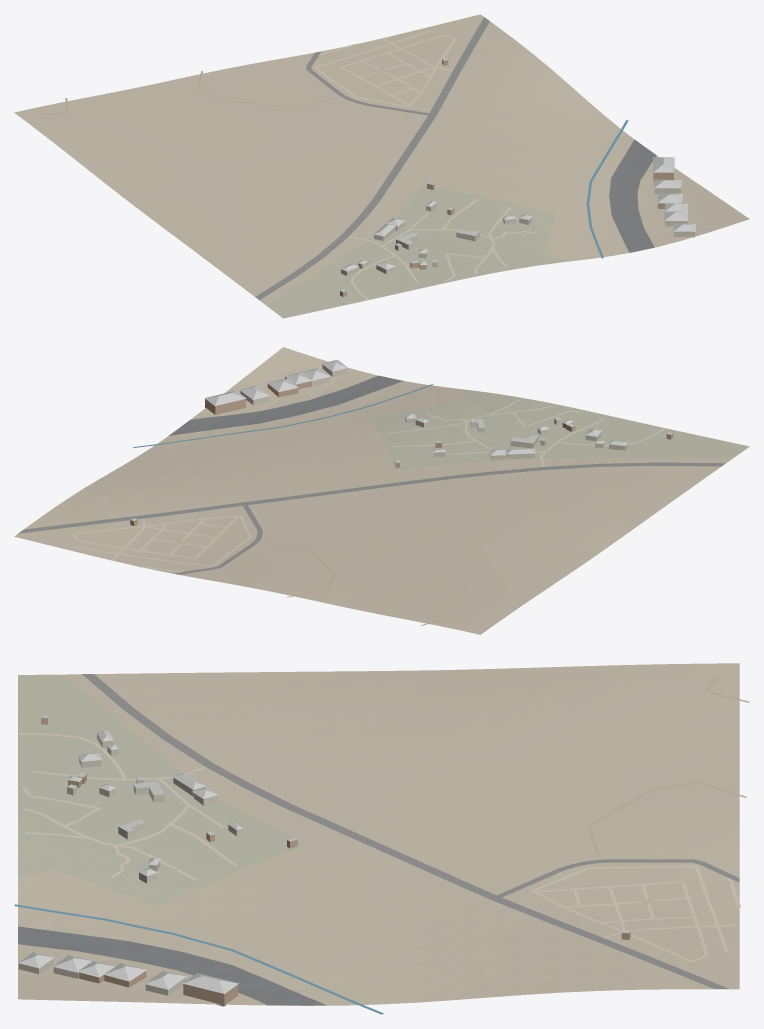
File: bolak_3_-4.glb
The picture shows the model from 3 angles, top to bottom: view 1: azimuth 30°, elevation 25°; view 2: azimuth 150°, elevation 25°; view 3: azimuth 270°, elevation 25°; orthographic projection. The views are drawn at different scales.
Visible parts, largest first — view 1: Yer_Tuproq-col, Yer_Qabr, Yol_Mahalla-col, Yol_Asfalt-col, Yol_Piyoda, Tom_Shifer, Devor_Suvoq-col; view 2: Yer_Tuproq-col, Yer_Qabr, Yol_Mahalla-col, Yol_Piyoda, Yol_Asfalt-col, Tom_Shifer, Devor_Suvoq-col, Devor_Gisht-col, Suv; view 3: Yer_Tuproq-col, Yer_Qabr, Yol_Mahalla-col, Yol_Asfalt-col, Yol_Piyoda, Tom_Shifer, Devor_Suvoq-col, Devor_Gisht-col, Suv, Yol_Tuproq.
Part boxes in pixels (x1,y1,x2,y2): Yer_Tuproq-col: [14, 14, 749, 307]; Yer_Qabr: [246, 185, 568, 318]; Yol_Mahalla-col: [255, 17, 489, 300]; Yol_Asfalt-col: [609, 139, 656, 252]; Yol_Piyoda: [314, 31, 535, 299]; Tom_Shifer: [340, 58, 695, 292]; Devor_Suvoq-col: [341, 188, 695, 275]; Yer_Tuproq-col: [14, 347, 733, 634]; Yer_Qabr: [373, 389, 749, 472]; Yol_Mahalla-col: [18, 462, 725, 574]; Yol_Piyoda: [72, 399, 665, 572]; Yol_Asfalt-col: [168, 375, 403, 435]; Tom_Shifer: [131, 359, 672, 521]; Devor_Suvoq-col: [240, 364, 627, 460]; Devor_Gisht-col: [130, 377, 673, 525]; Suv: [133, 384, 433, 447]; Yer_Tuproq-col: [18, 663, 739, 1005]; Yer_Qabr: [18, 673, 306, 905]; Yol_Mahalla-col: [82, 674, 739, 988]; Yol_Asfalt-col: [18, 926, 326, 1005]; Yol_Piyoda: [18, 733, 740, 962]; Tom_Shifer: [18, 715, 630, 993]; Devor_Suvoq-col: [18, 733, 242, 995]; Devor_Gisht-col: [41, 717, 630, 1006]; Suv: [14, 904, 383, 1014]; Yol_Tuproq: [587, 676, 749, 856].
Size of what is drawn, in the model's own units: 413 by 23.64 by 408.
